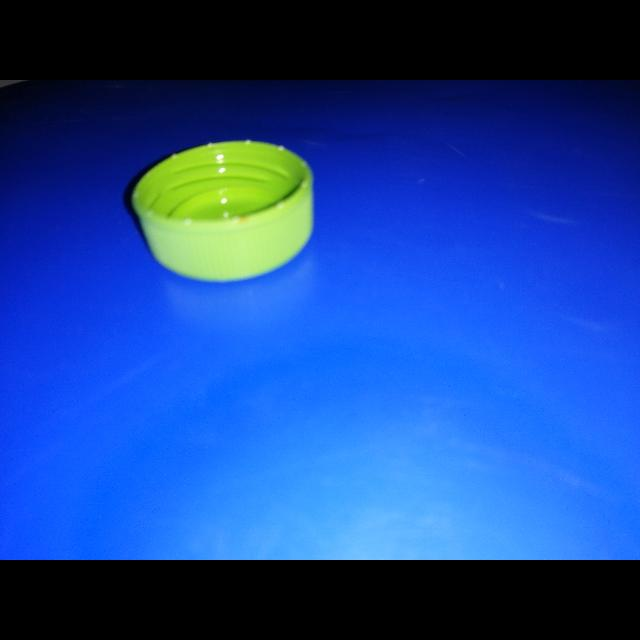plastic_bottle_cap: (130, 138, 316, 284)
